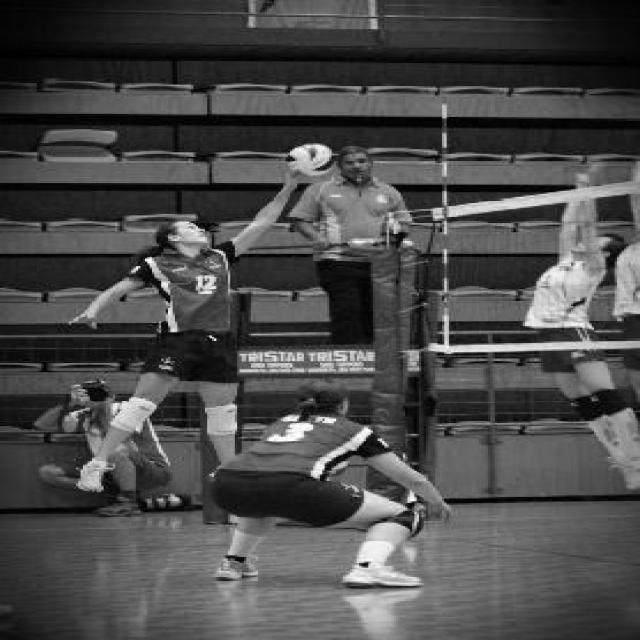volleyball: (286, 144, 336, 180)
